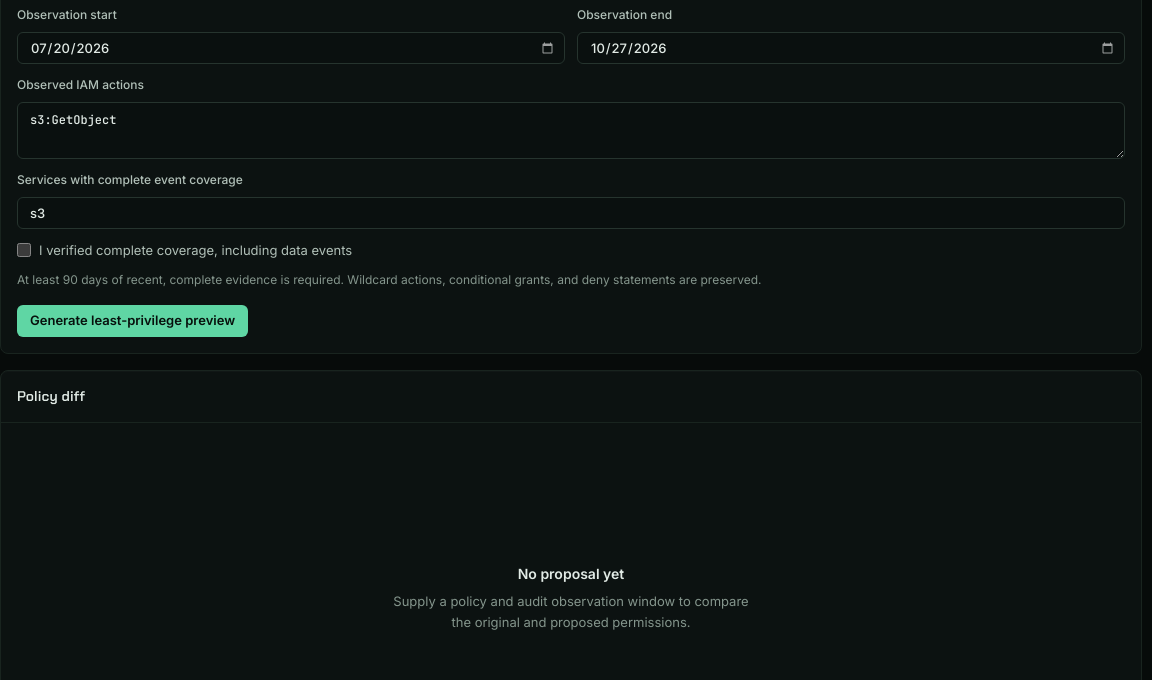
Test: Remediation hub › prevents a non-administrator from creating PRs
The width and height of the screenshot is (1152, 680).
(page scrolled)
Click the button "Generate least-privilege preview" at (133, 321), box left=17, top=305, right=248, bottom=337
(page scrolled)
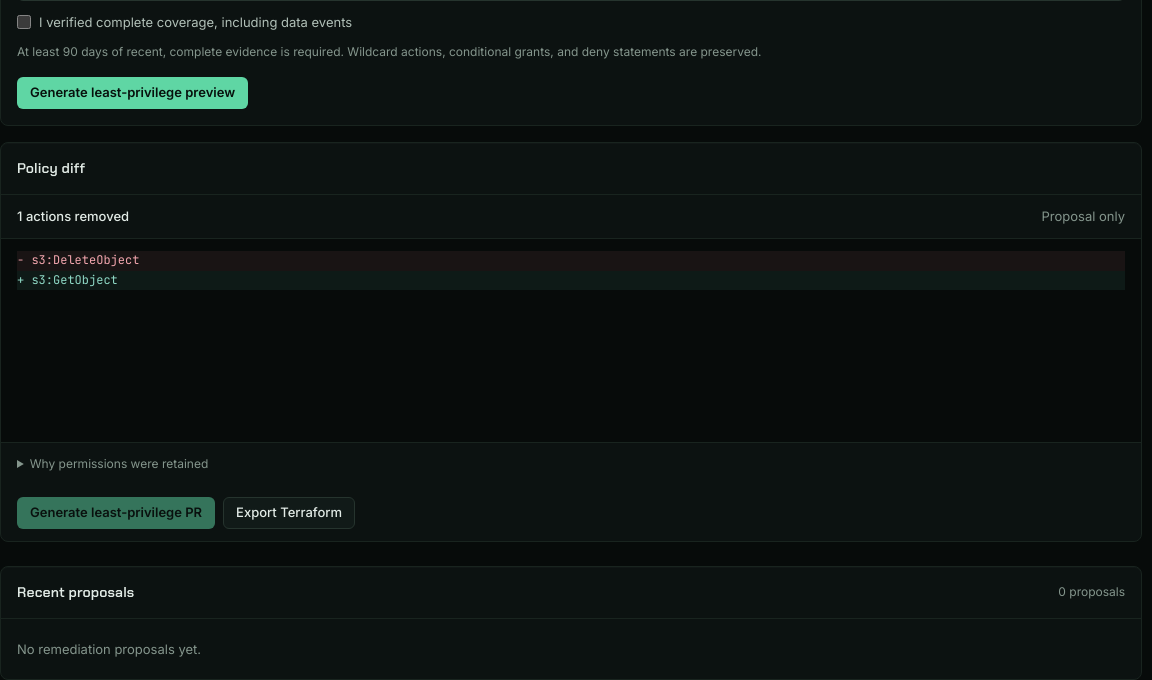
Result: the button "Generate least-privilege PR" is disabled at left=17, top=497, right=215, bottom=529
